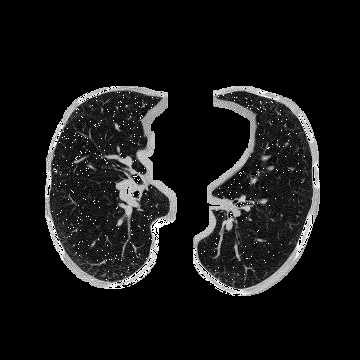PN: (53, 168, 57, 172)
